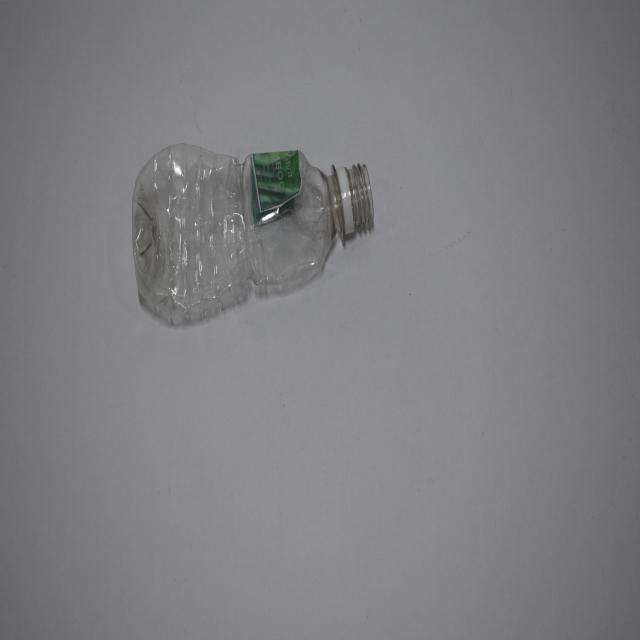plastic: (130, 139, 372, 331)
